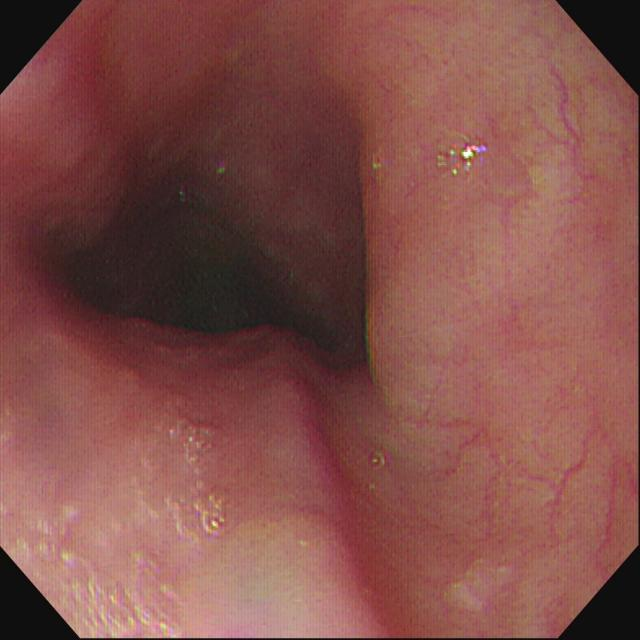E: (145, 226, 261, 329)
T: (196, 496, 227, 537)
U: (449, 145, 486, 160)
